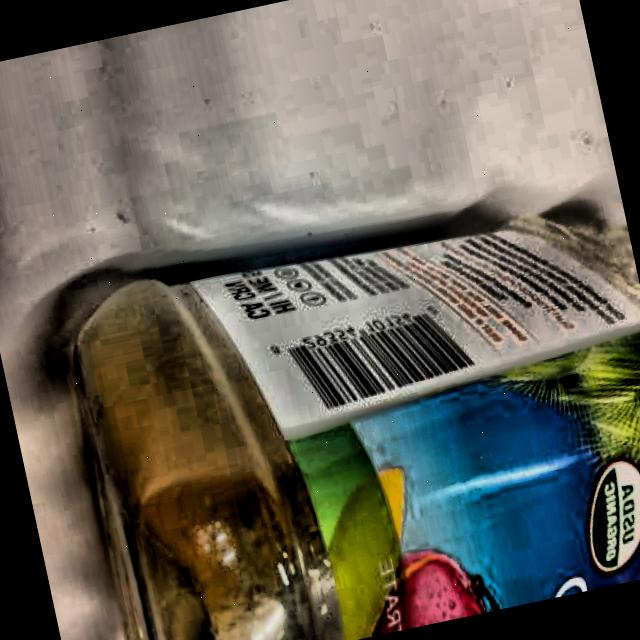plastic: (49, 173, 640, 640)
